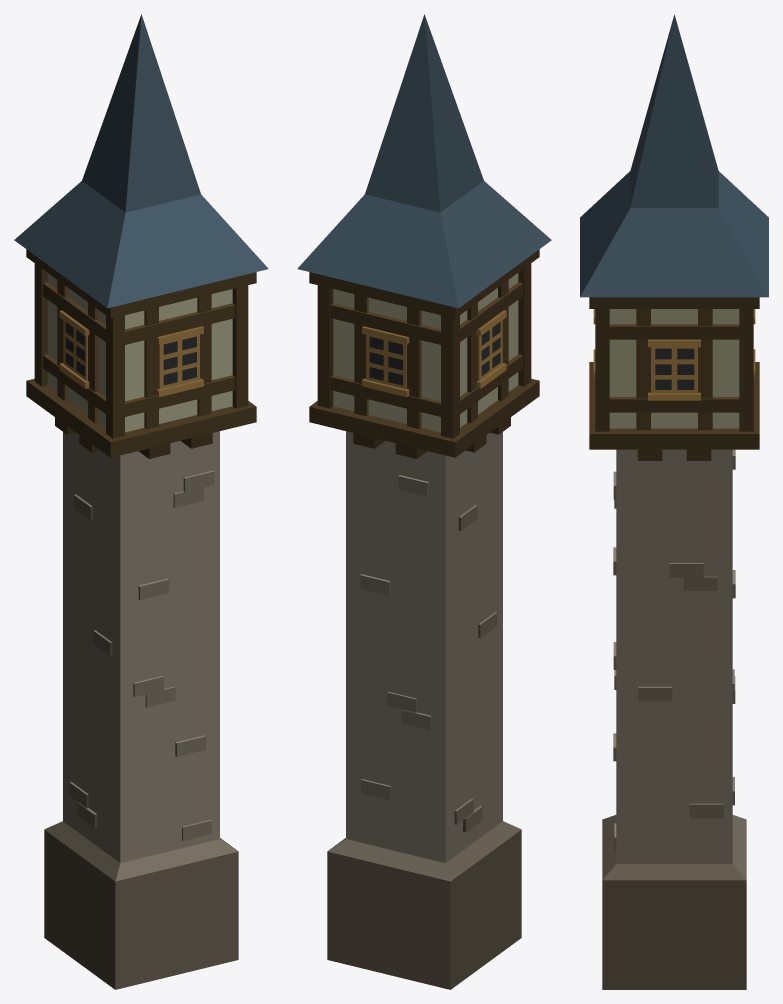
The model's file is SF_Bld_Castle_TallTower_01.fbx.
The picture shows the model from 3 angles, left to right: view 1: azimuth 30°, elevation 25°; view 2: azimuth 150°, elevation 25°; view 3: azimuth 270°, elevation 25°; orthographic projection.
Parts seen in each view (by area): view 1: SF_Bld_Castle_TallTower_01; view 2: SF_Bld_Castle_TallTower_01; view 3: SF_Bld_Castle_TallTower_01.
Part boxes in pixels (x1,y1,x2,y2): SF_Bld_Castle_TallTower_01: [14, 14, 268, 989]; SF_Bld_Castle_TallTower_01: [297, 14, 551, 989]; SF_Bld_Castle_TallTower_01: [580, 14, 768, 989].
Size of the model in its own units: 7.52 by 41.58 by 7.52.
